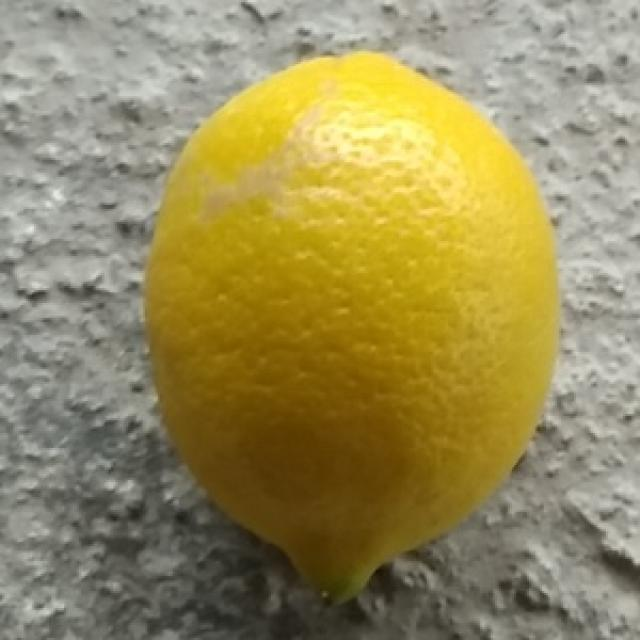Ripe: (142, 44, 566, 606)
